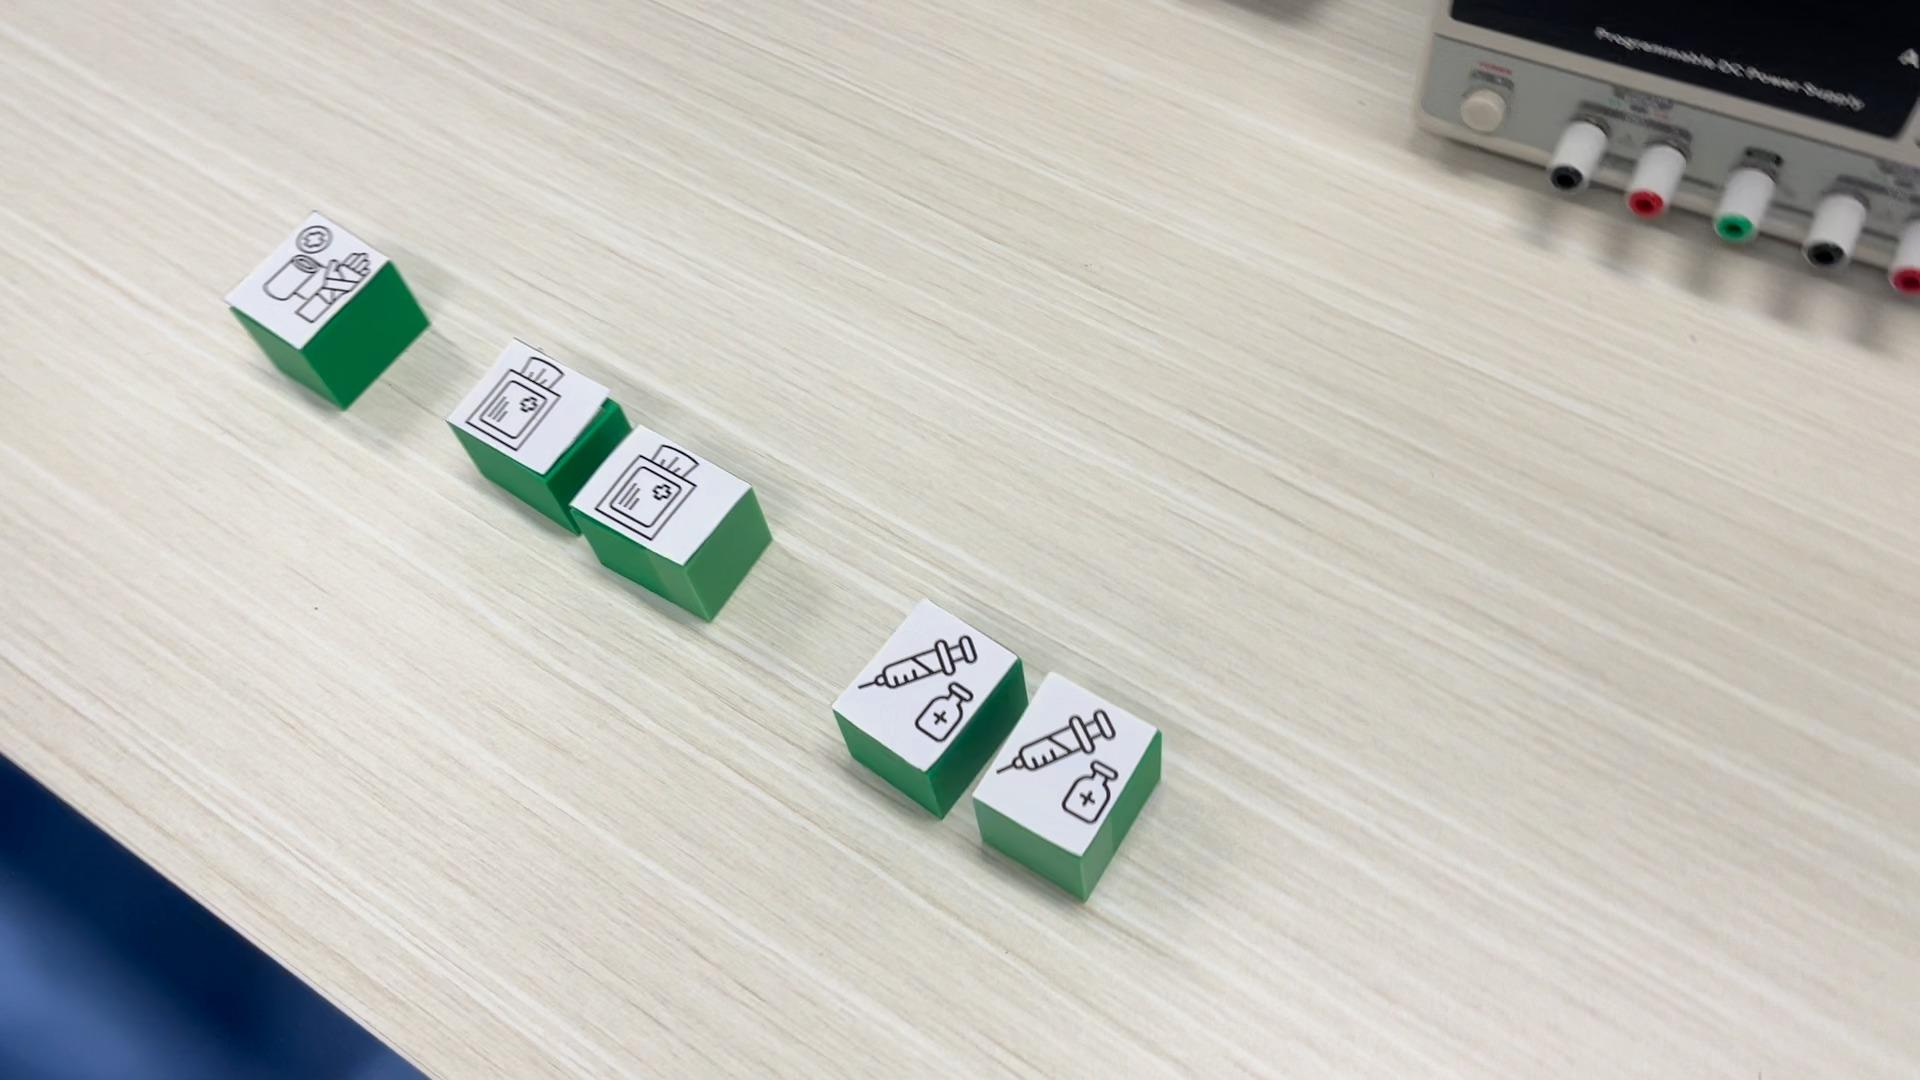Bandages: (223, 211, 430, 409)
Gauze: (572, 425, 774, 625), (443, 334, 617, 484)
antiseptic cream: (969, 673, 1164, 903), (833, 595, 1013, 786)
